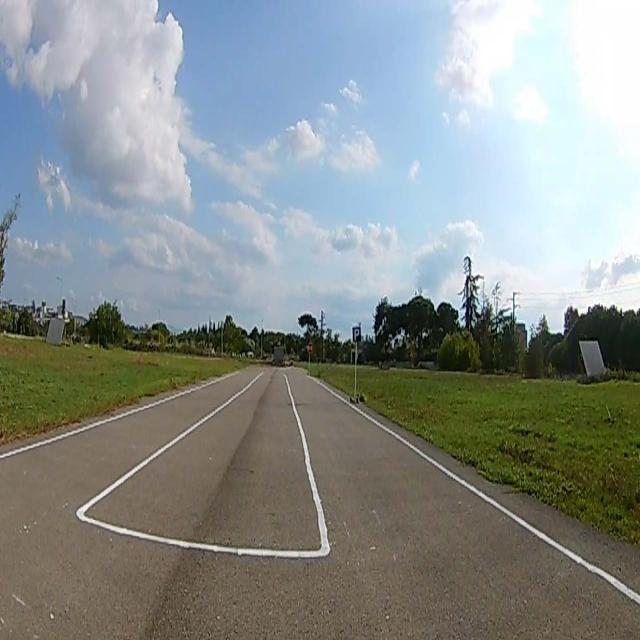park: (353, 327, 360, 341)
